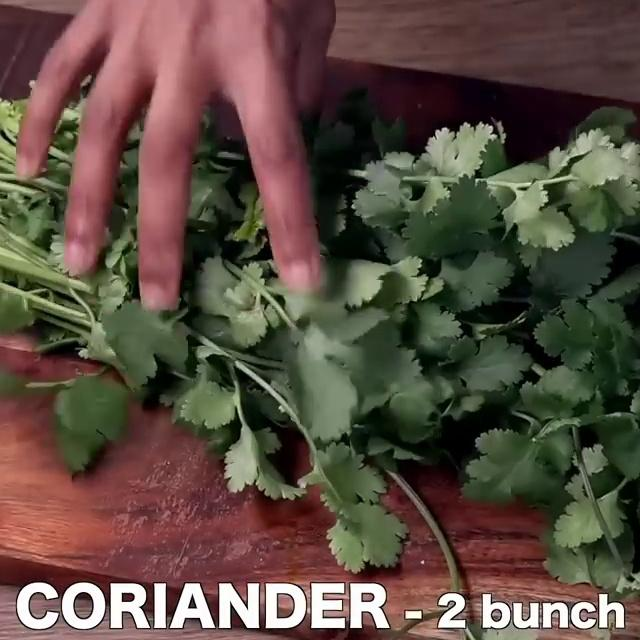cilantro: (346, 121, 640, 588)
